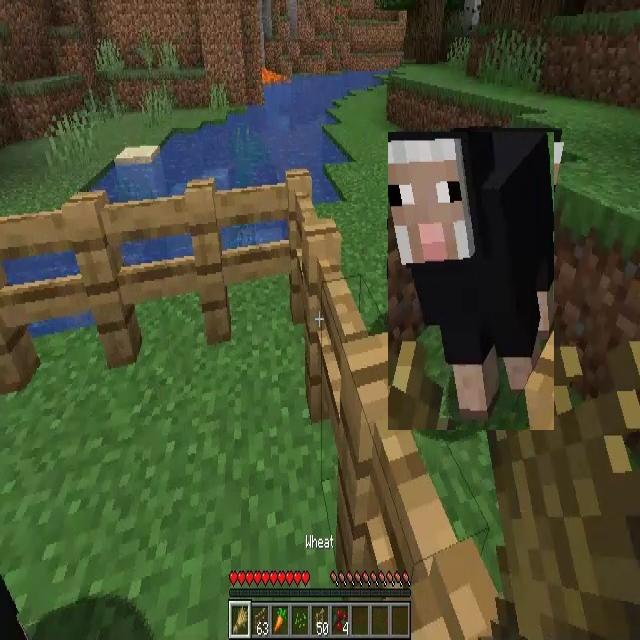sheep: (388, 132, 554, 430)
